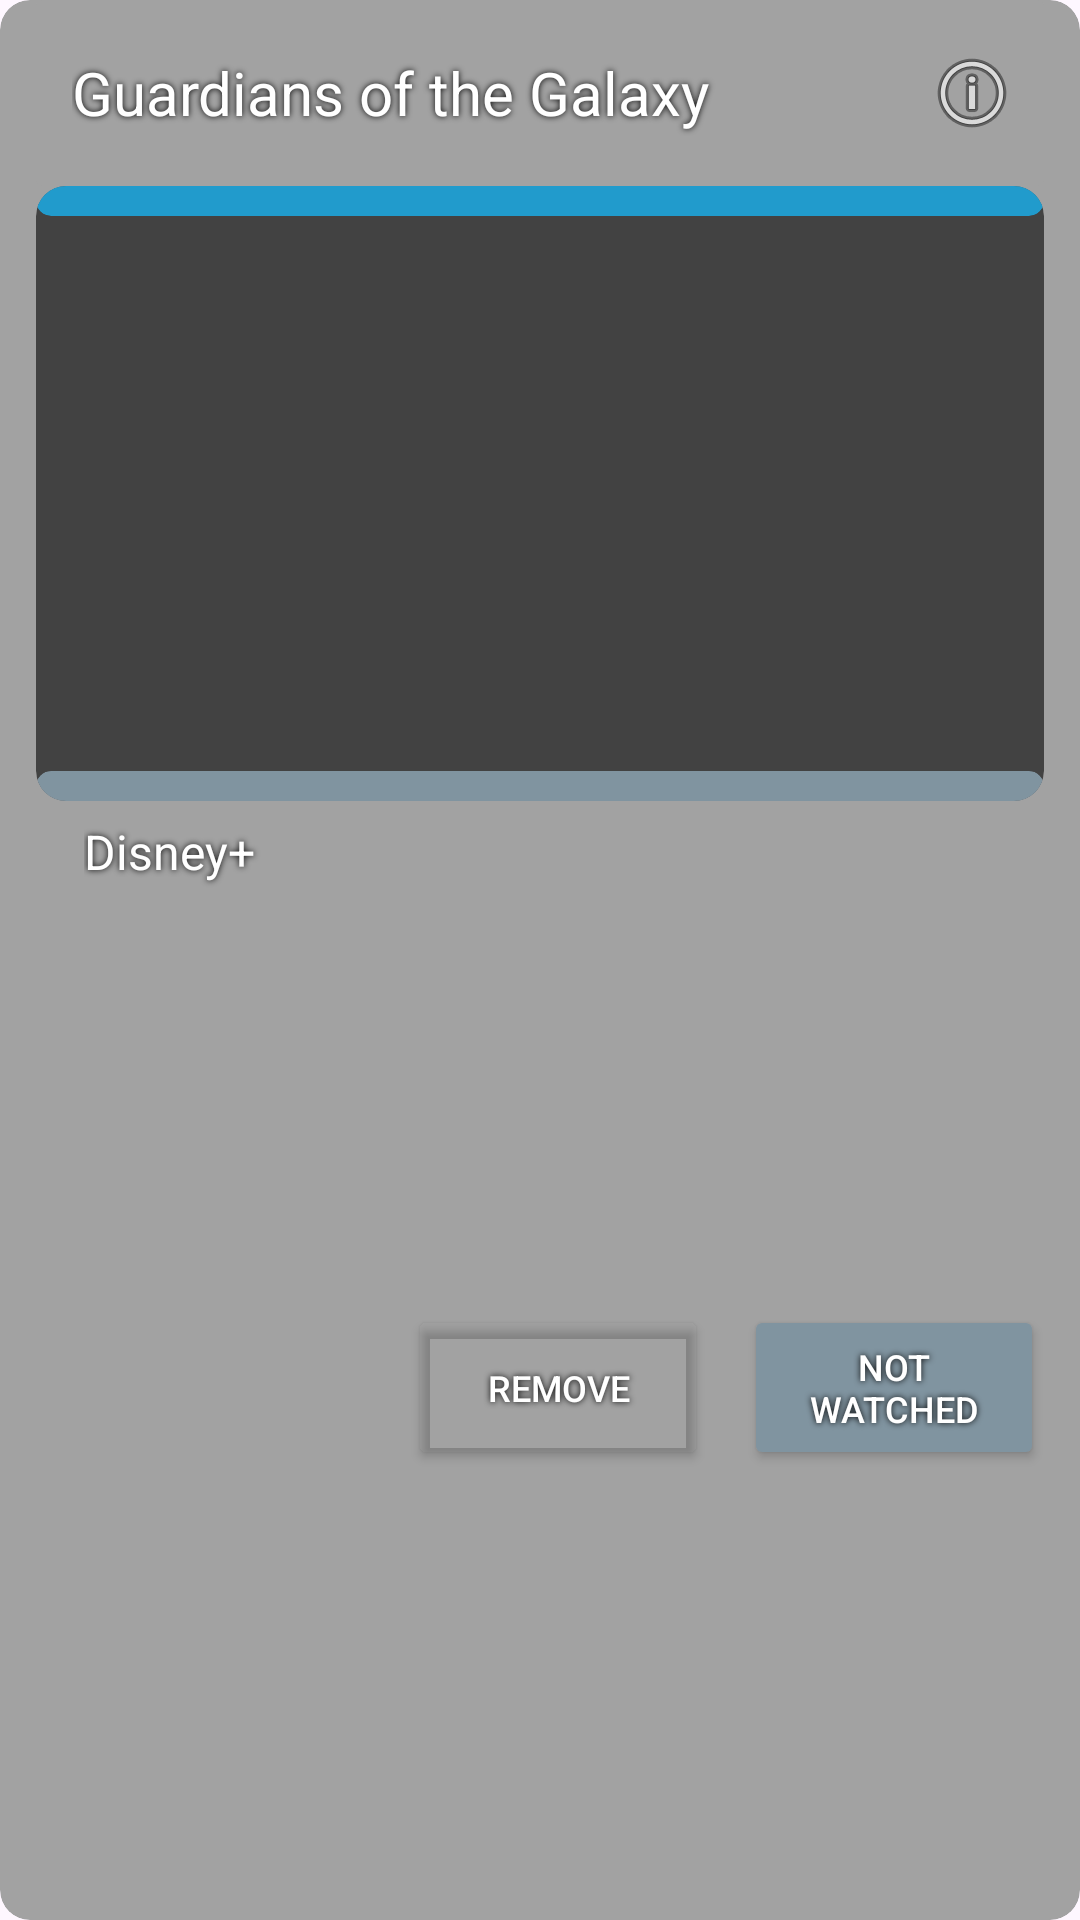

Locate icon controls on the screen. Image size 1080w x 1920h, boxes as (x1, y1, x2, y2).
info details: (938, 59, 1006, 127)
